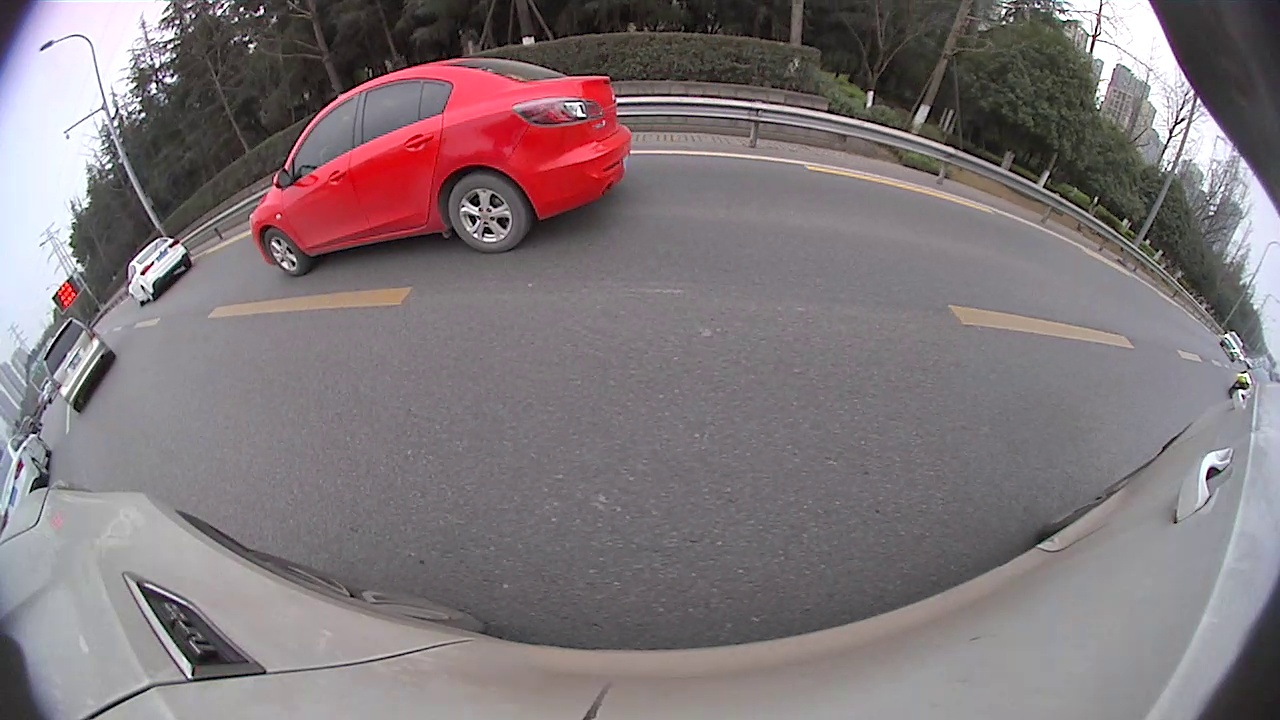car: (246, 54, 636, 280), (40, 315, 119, 415), (1, 429, 53, 536), (124, 235, 192, 307), (1217, 328, 1246, 363)
front: (264, 230, 306, 275)
rear: (448, 176, 525, 250)
